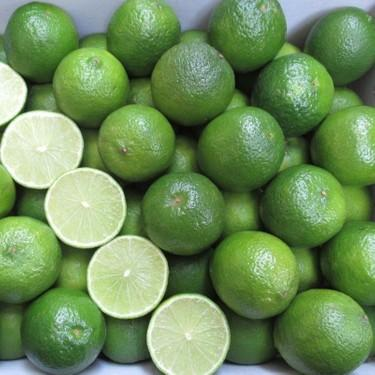lime: (276, 285, 375, 375), (207, 224, 300, 318), (140, 290, 240, 375), (254, 158, 346, 249), (146, 38, 235, 129), (26, 285, 111, 375), (145, 168, 227, 260), (196, 105, 281, 191), (252, 51, 332, 141), (86, 233, 168, 319), (43, 166, 123, 249), (4, 110, 81, 191), (96, 98, 174, 177), (302, 3, 375, 87), (51, 46, 129, 120), (319, 105, 375, 187), (327, 221, 375, 306)
